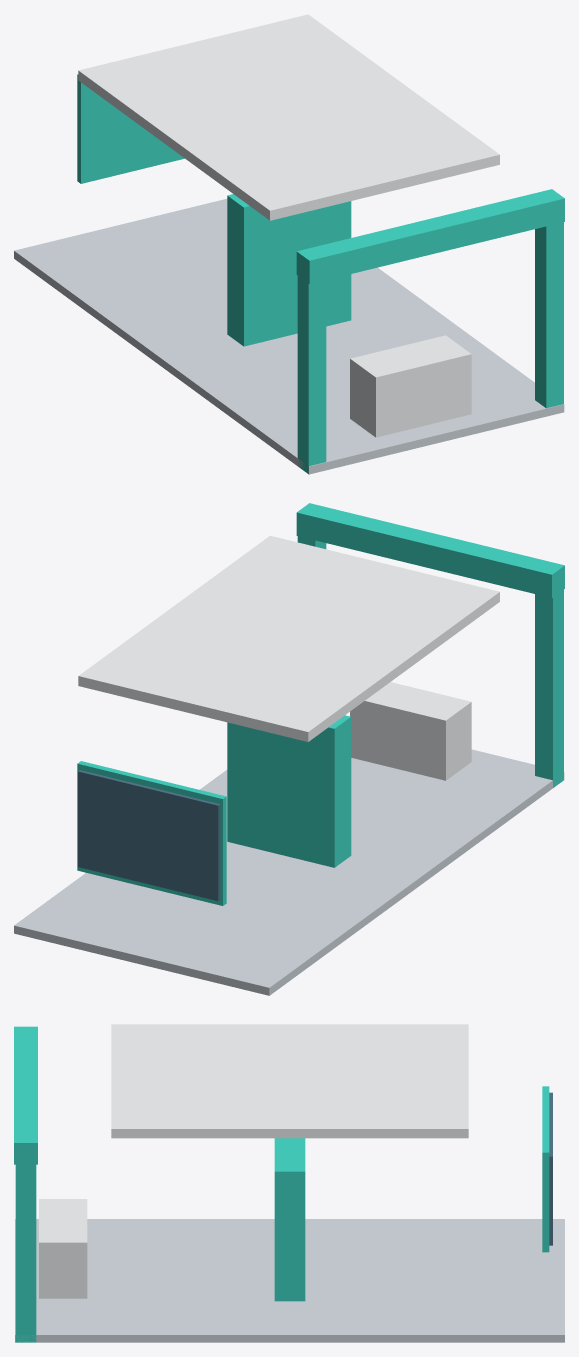
The picture shows the model from 3 angles, top to bottom: view 1: azimuth 30°, elevation 25°; view 2: azimuth 150°, elevation 25°; view 3: azimuth 270°, elevation 25°; orthographic projection. The views are drawn at different scales.
Visible parts, largest first — view 1: Exhibition Booth Concept; view 2: Exhibition Booth Concept; view 3: Exhibition Booth Concept.
Part boxes in pixels (<box>): Exhibition Booth Concept: <box>14,14,564,474</box>; Exhibition Booth Concept: <box>14,503,564,995</box>; Exhibition Booth Concept: <box>14,1024,564,1342</box>.
Bounding box in the file's own units: 4 × 3.34 × 8.01.
